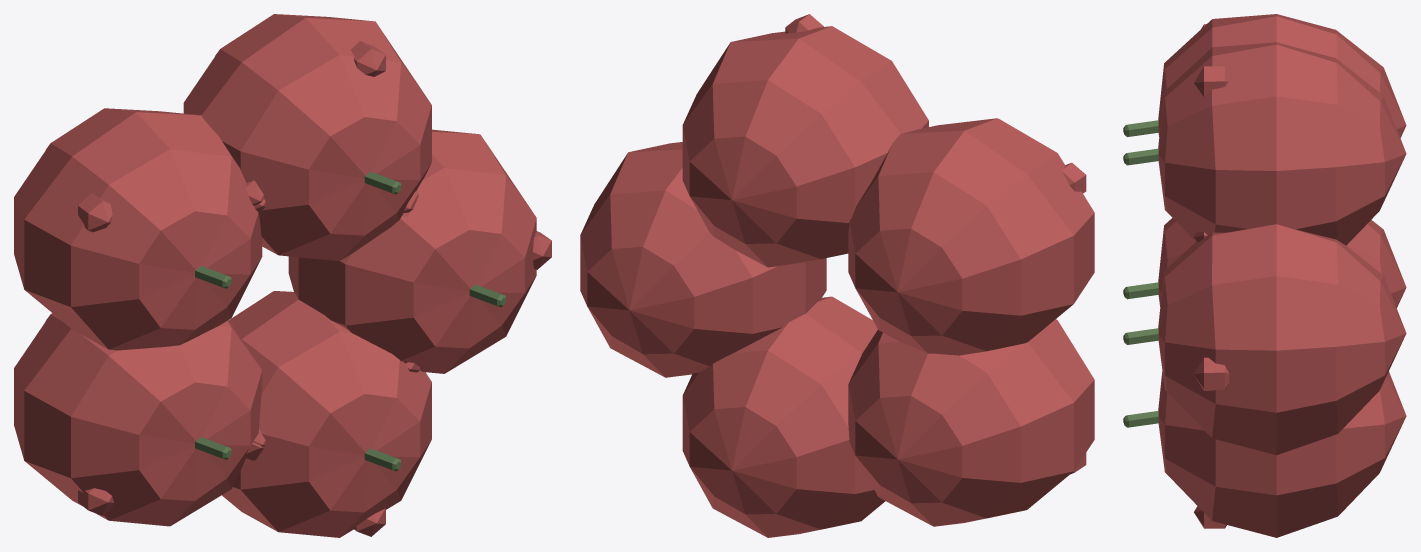
The model's file is lychee.glb.
The picture shows the model from 3 angles, left to right: view 1: azimuth 30°, elevation 25°; view 2: azimuth 150°, elevation 25°; view 3: azimuth 270°, elevation 25°; orthographic projection. The views are drawn at different scales.
Parts seen in each view (by area): view 1: lychee; view 2: lychee; view 3: lychee.
Boxes of the visible parts, x1=… form: lychee: x1=14, y1=14, x2=551, y2=537; lychee: x1=580, y1=14, x2=1094, y2=537; lychee: x1=1123, y1=14, x2=1406, y2=537.
Bounding box in the file's own units: 0.0777 × 0.0767 × 0.0409.
